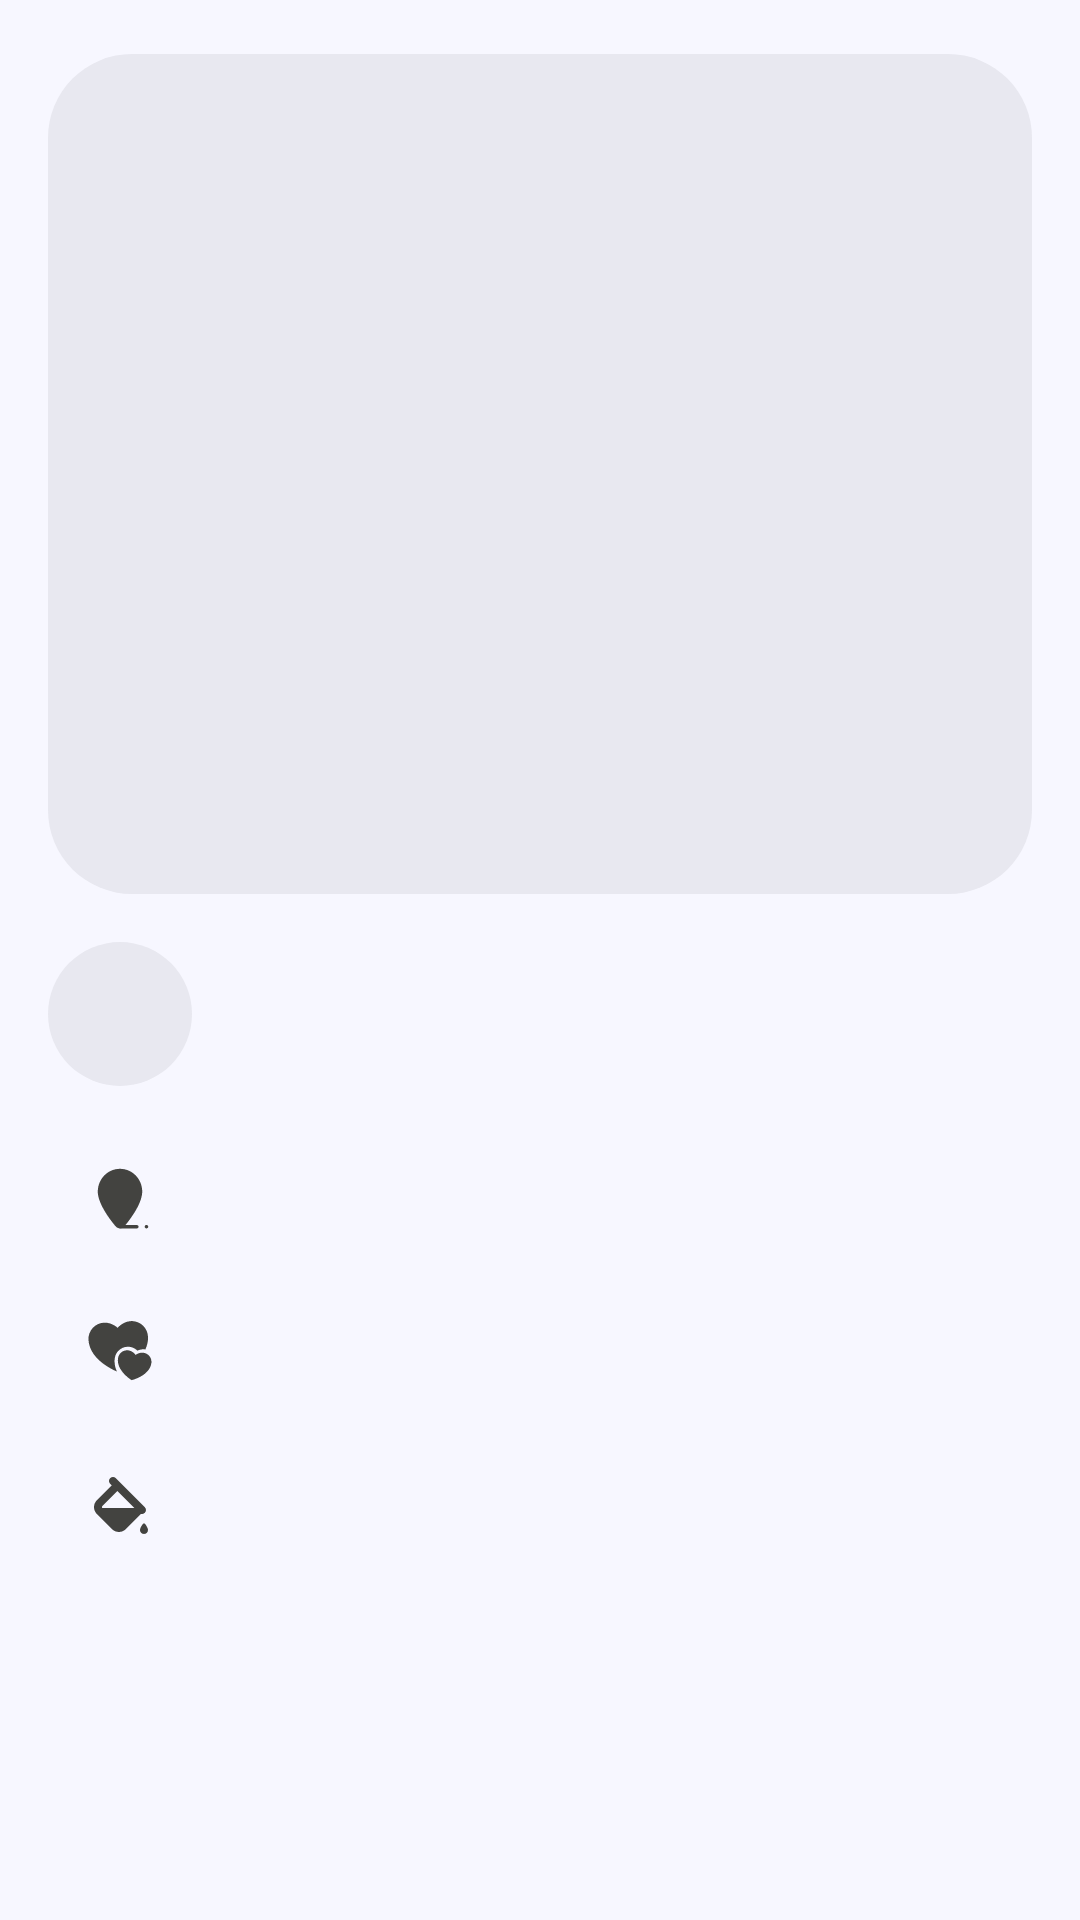

Where icons sit on this 1080w x 1920h app screen, as (x1, y1, x2, y2):
like: (88, 1321, 152, 1380)
location: (97, 1168, 149, 1229)
